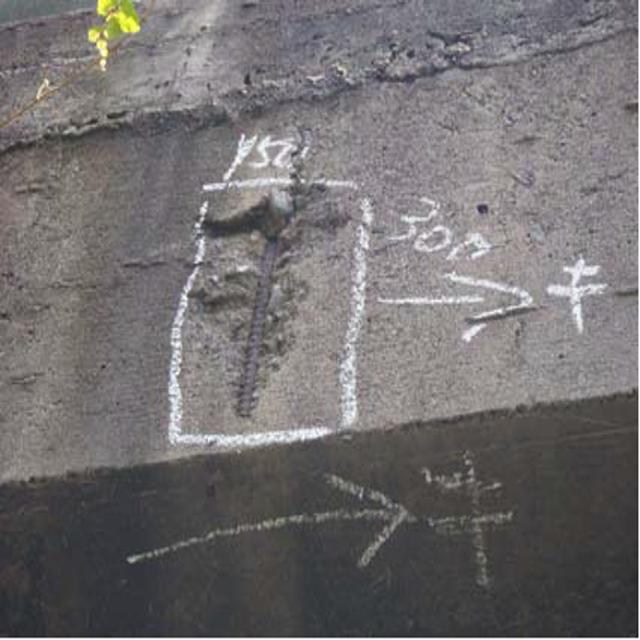spalling: (170, 176, 344, 426)
